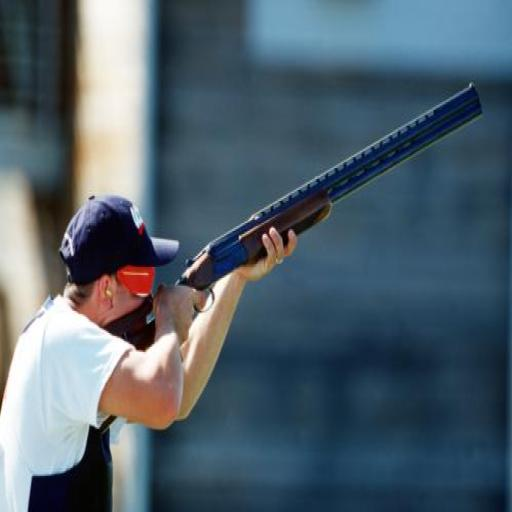shooting: (0, 192, 300, 510)
